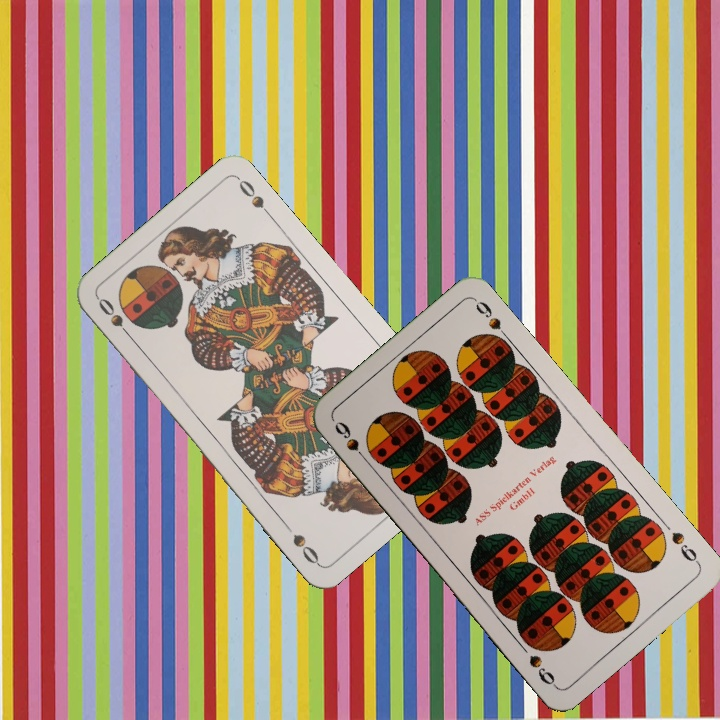S9: (330, 417, 373, 467), (667, 527, 703, 568)
SO: (93, 293, 137, 344)
